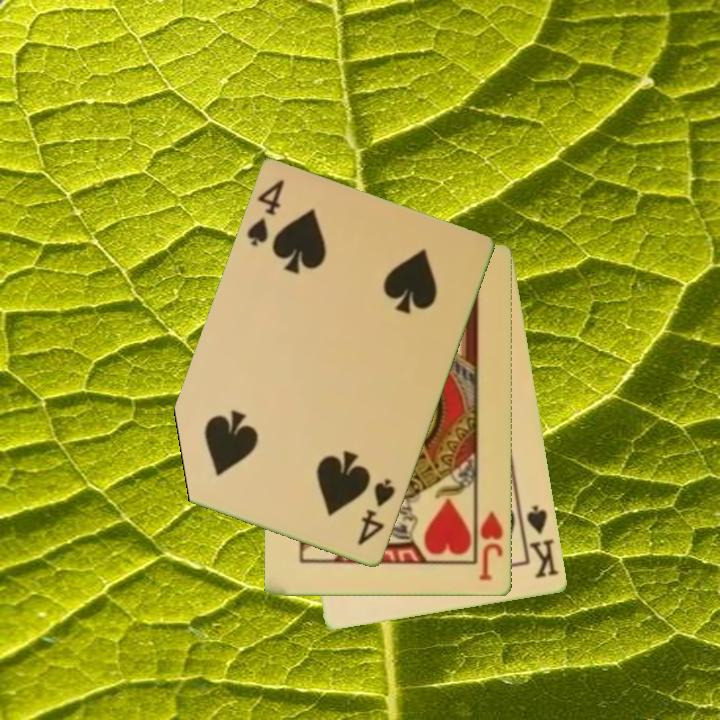4s: (243, 176, 288, 251), (354, 475, 398, 549)
Jh: (476, 508, 507, 584)
Ks: (517, 502, 562, 582)
